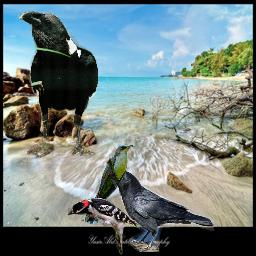Crow: (18, 11, 98, 156), (105, 170, 214, 252)
Cuckoo: (85, 145, 134, 225)
Woodpecker: (68, 197, 140, 256)
